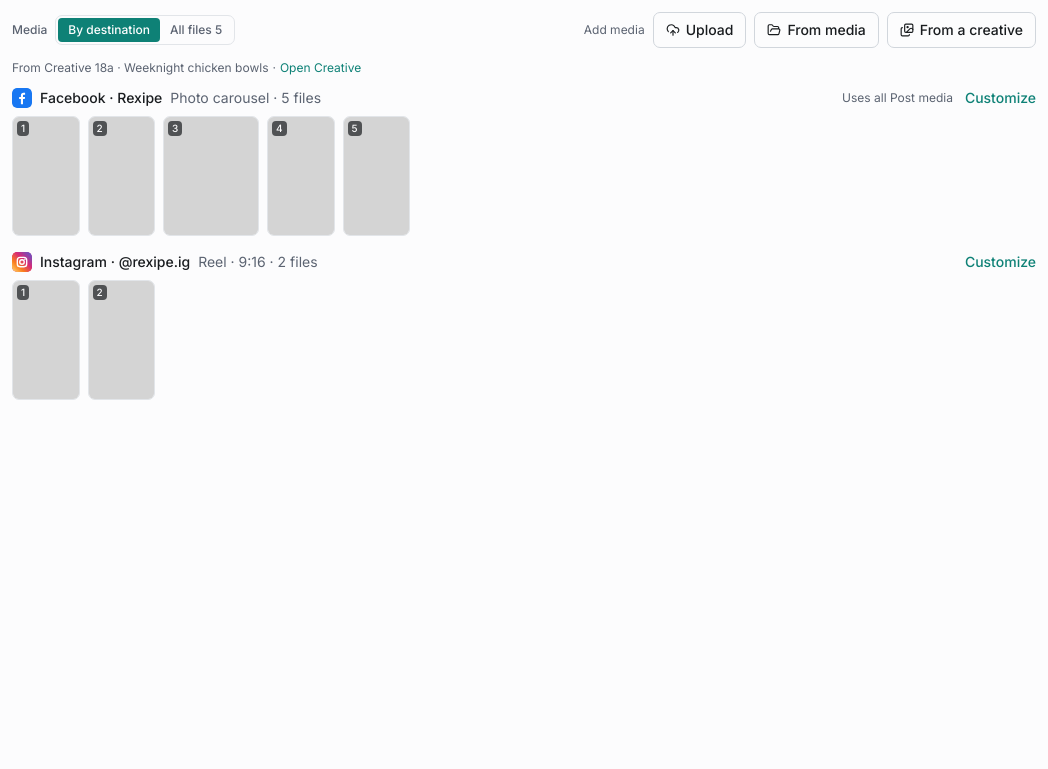
it: PostMediaSection › shows the Creative name next to its display id
Expected: the list with test id "media-origin-line" shows "From Creative 18a · Weeknight chicken bowls", [12,60,361,75]
Expected: the text titled "Creative 18a · Weeknight chicken bowls" is shown, [12,60,268,76]
What coordinates should you click on to do the following:
click the radio button labelled "All files 5"
I would click on:
 (196, 30)
Its box is [160,18,232,42].
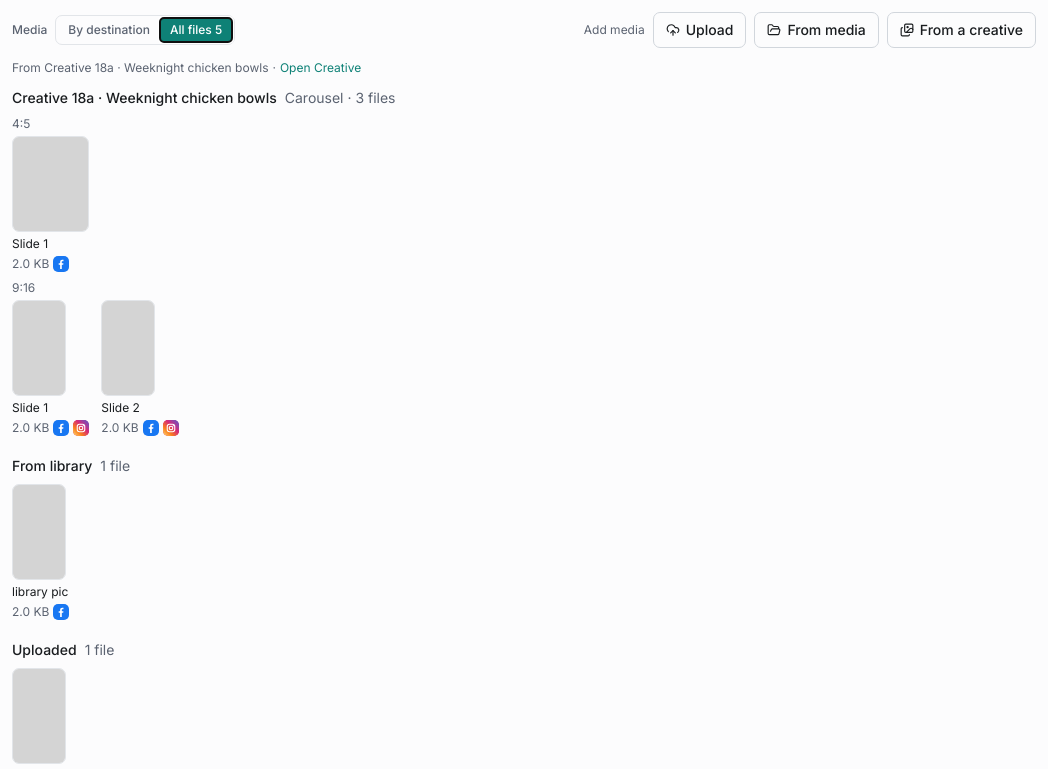
Result: the element with test id "media-origin-group" shows "Creative 18a · Weeknight chicken bowls" at [12,89,277,106]
